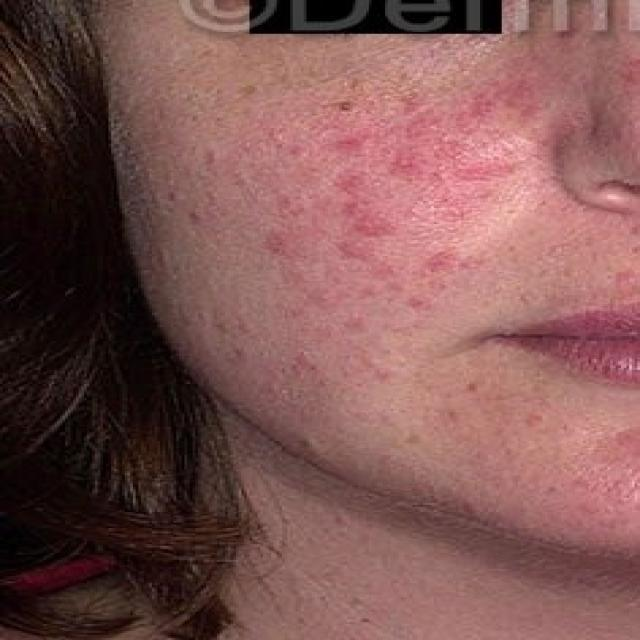Rosacea: (278, 103, 536, 293)
